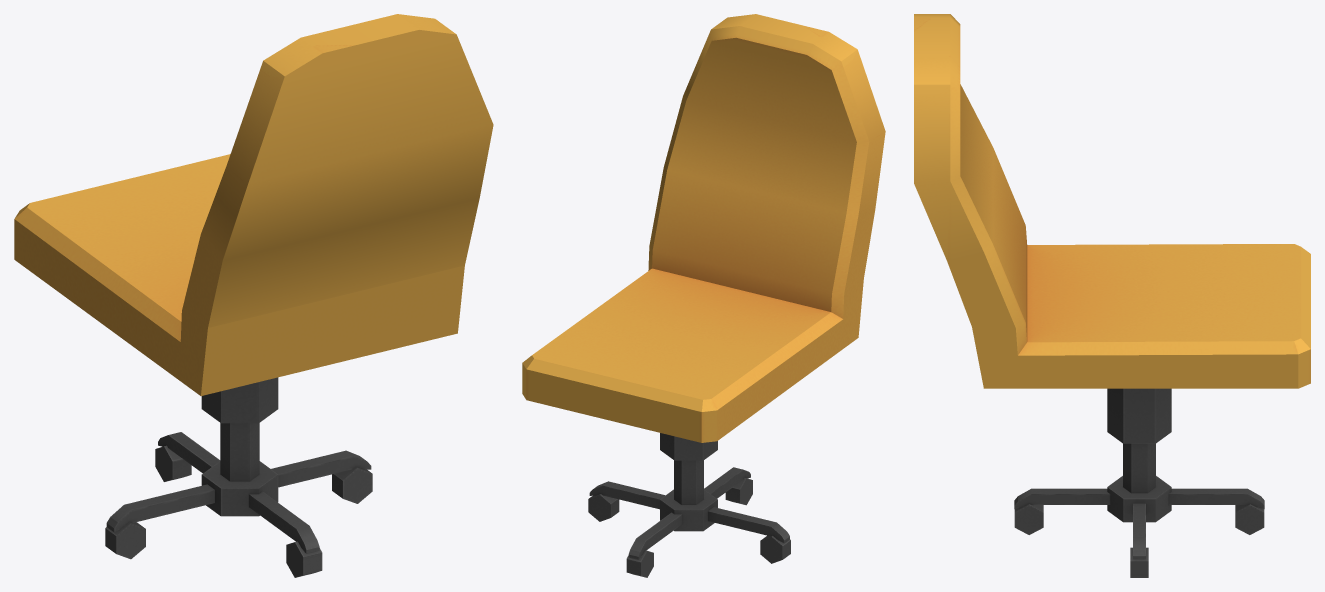
File: chair01.fbx
The picture shows the model from 3 angles, left to right: view 1: azimuth 30°, elevation 25°; view 2: azimuth 150°, elevation 25°; view 3: azimuth 270°, elevation 25°; orthographic projection. The views are drawn at different scales.
Visible parts, largest first — view 1: polySurface172; view 2: polySurface172; view 3: polySurface172.
Part boxes in pixels (x1=…): polySurface172: x1=14, y1=14, x2=493, y2=577; polySurface172: x1=522, y1=14, x2=885, y2=577; polySurface172: x1=914, y1=14, x2=1310, y2=577.
Bounding box in the file's own units: 8.91 × 19.23 × 14.03.
Materials: 1 (1 with a texture image).
